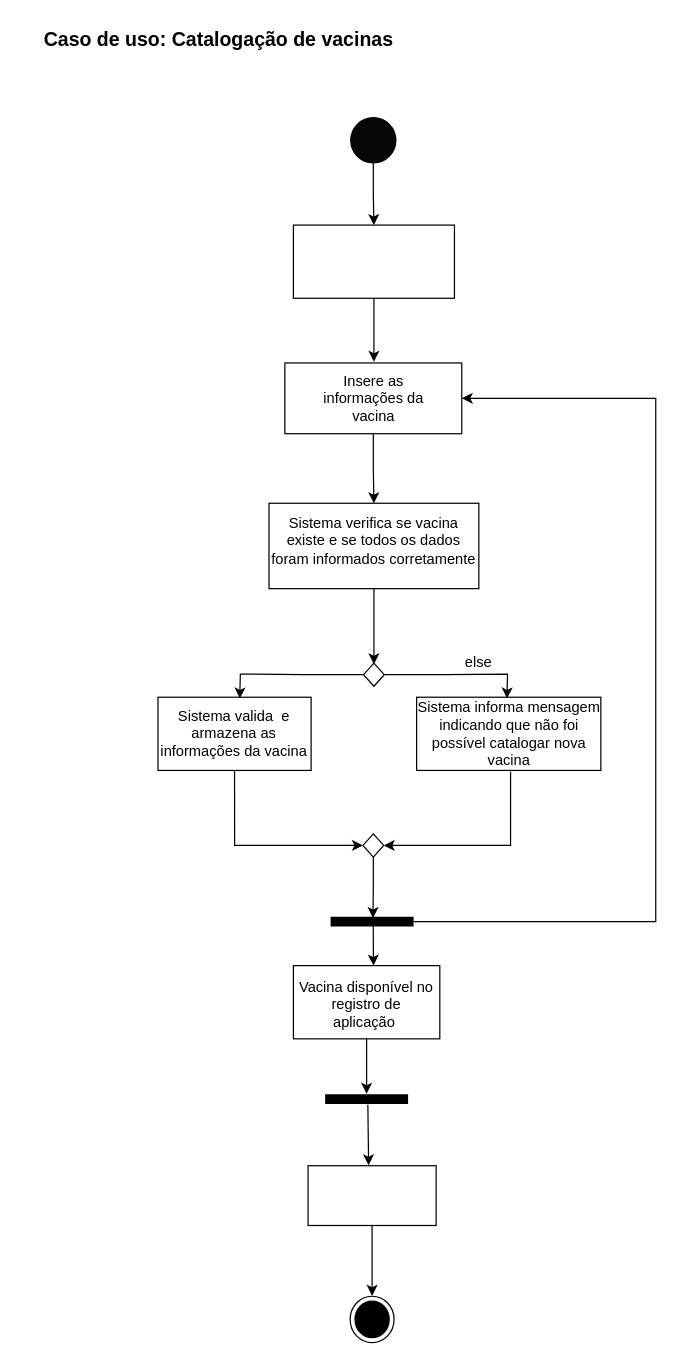
Image size: 687x1364. Some labels were removed from this diagram. Here are the shapes that lost their labels. From the top down, the centre of each, then its label:
At point 373,261: "O profissional acessa o módulo de catalogação de vacinas".
At point 371,1194: "Tarefa finalizada".
